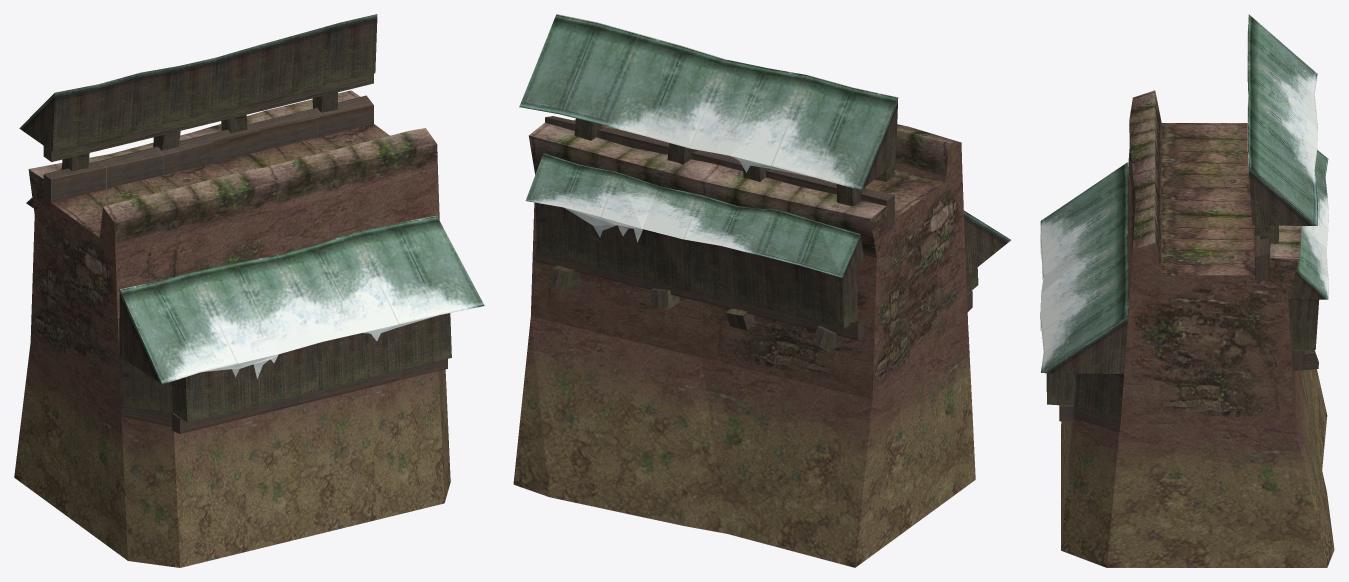
Rendered from C1SMWA20LGE_H.obj.
The picture shows the model from 3 angles, left to right: view 1: azimuth 30°, elevation 25°; view 2: azimuth 150°, elevation 25°; view 3: azimuth 270°, elevation 25°; orthographic projection. The views are drawn at different scales.
Visible parts, largest first — view 1: Node 0; view 2: Node 0; view 3: Node 0.
Boxes of the visible parts, x1,y1,x2,y2 form: Node 0: (14,14,484,567); Node 0: (513,14,1010,567); Node 0: (1040,14,1334,567).
Bounding box in the file's own units: 10 × 12.31 × 8.15.
Materials: 4 (4 with a texture image).
